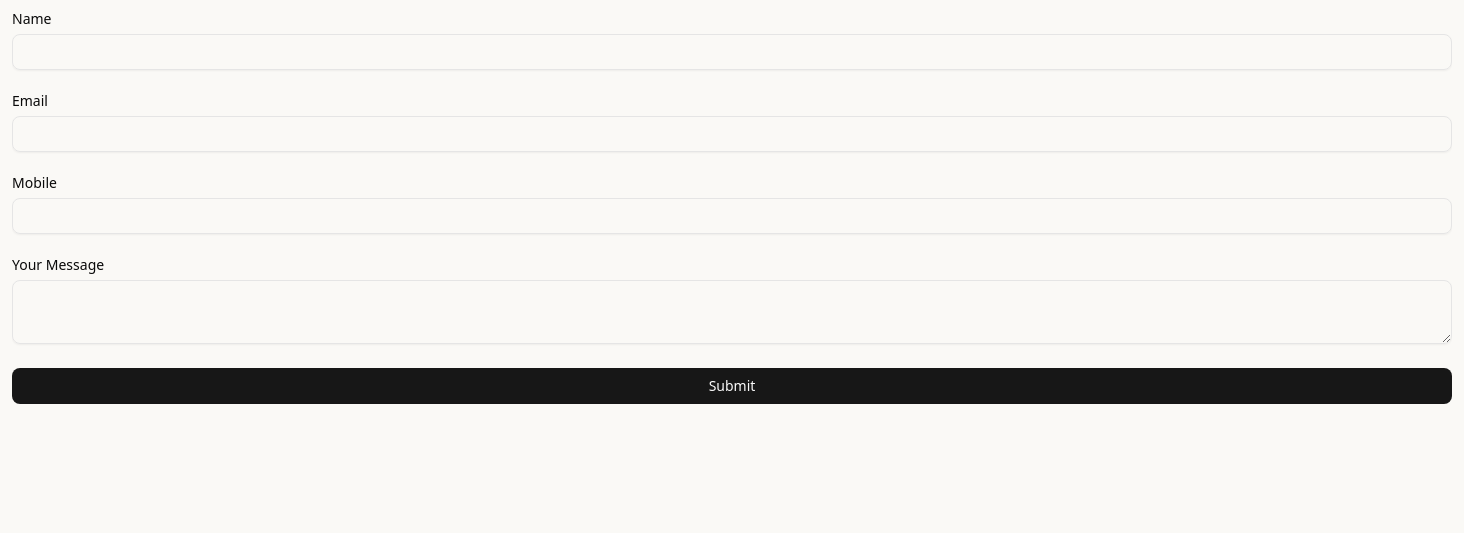
Test: ContactForm Component › should validate required fields
The image size is (1464, 533).
Click the button "Submit": (732, 386) [12,368,1452,404]
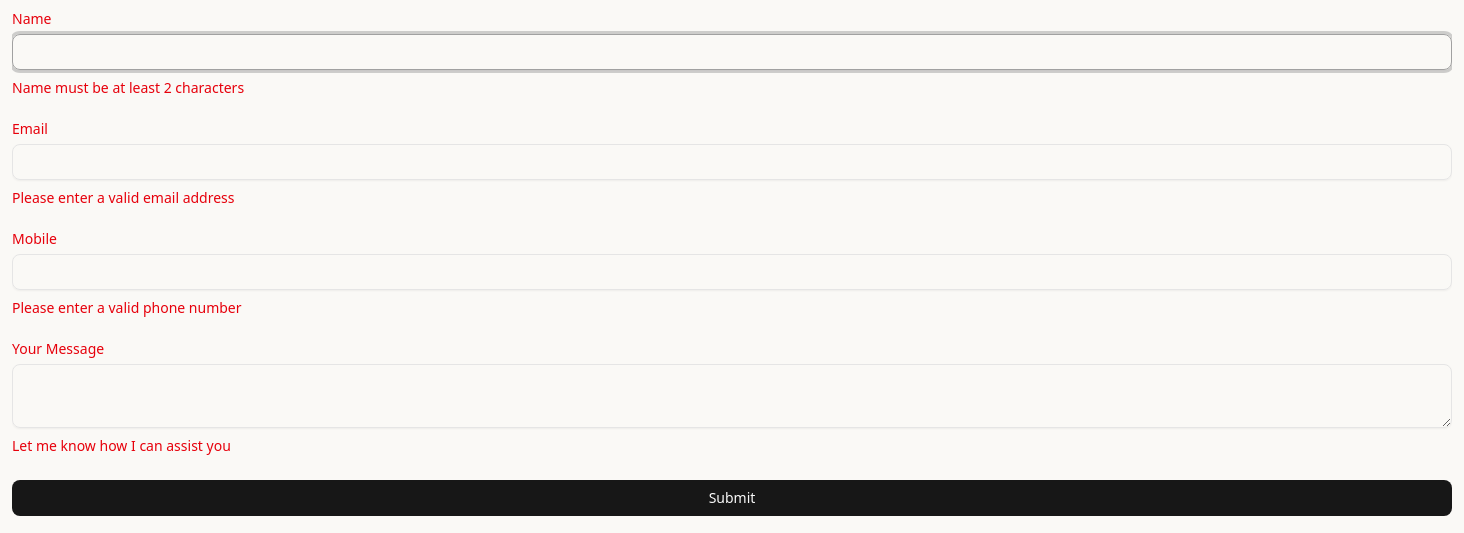
Expected: the text "Name must be at least 2 characters" is shown, [12,78,244,97]
Expected: the text "Please enter a valid email address" is shown, [12,188,234,207]
Expected: the text "Please enter a valid phone number" is shown, [12,298,242,317]
